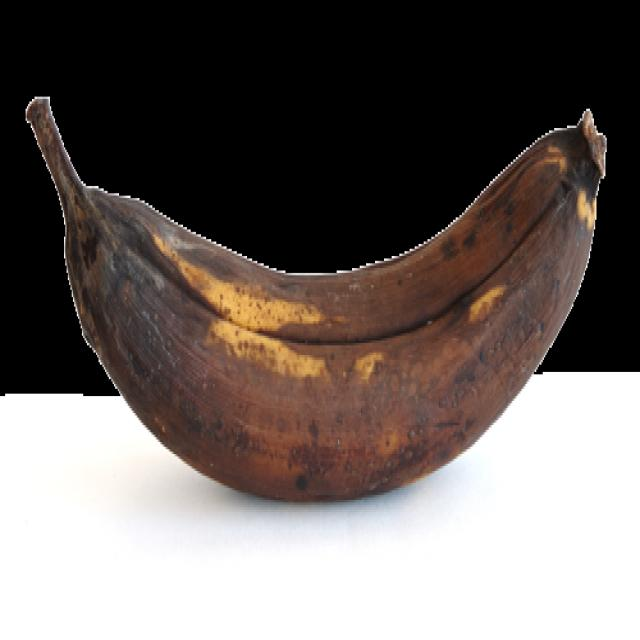Banana: (26, 93, 612, 505)
